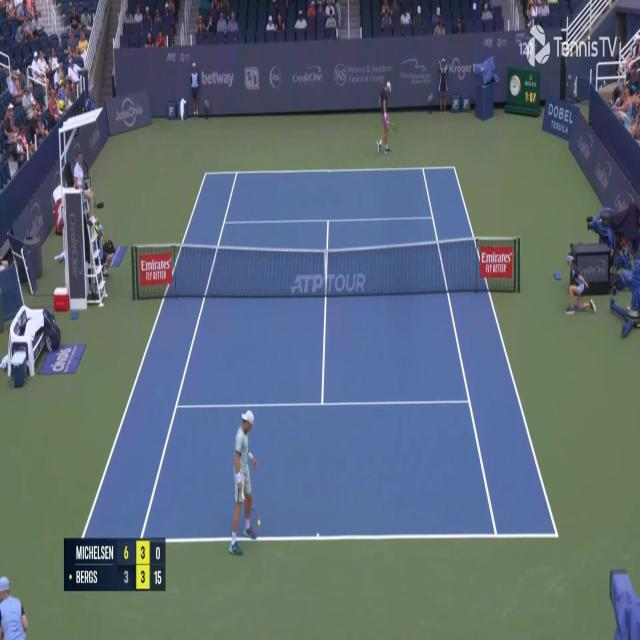tennis-player: (230, 406, 261, 557), (0, 574, 30, 640), (376, 80, 397, 156)
